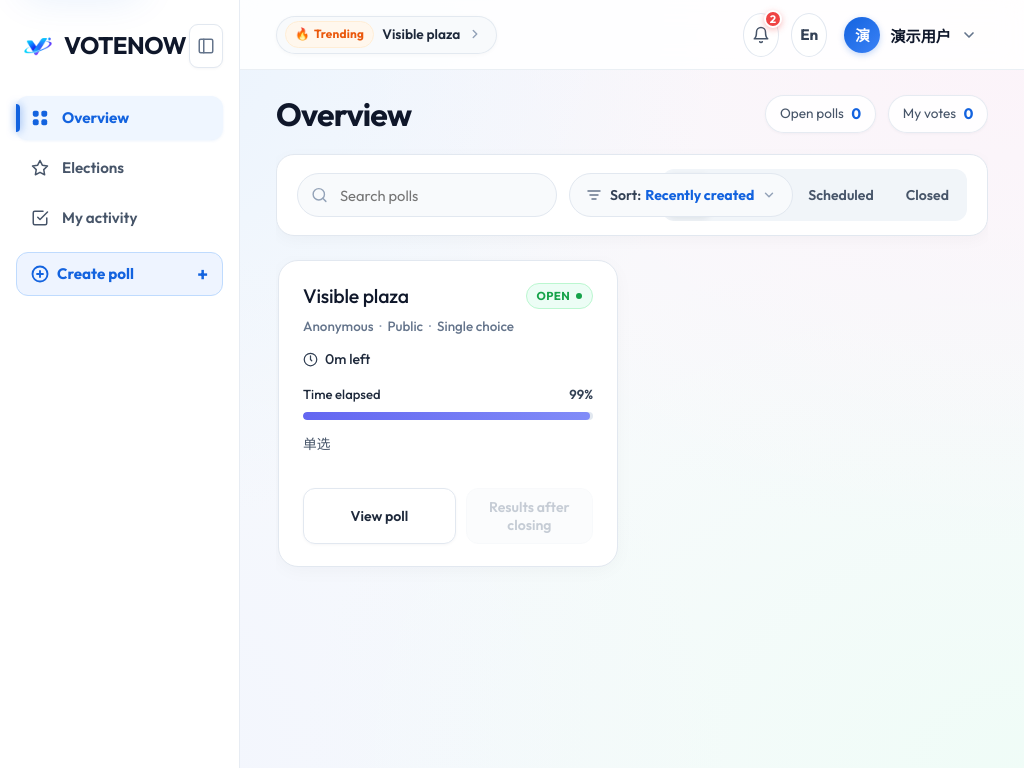
Test: DashboardPage › 搜索发给公开列表接口，没有结果时显示空状态
The image size is (1024, 768).
Type "Missing" into the field with placeholder "Search polls" at (427, 195), box x1=297 y1=173 x2=557 y2=217
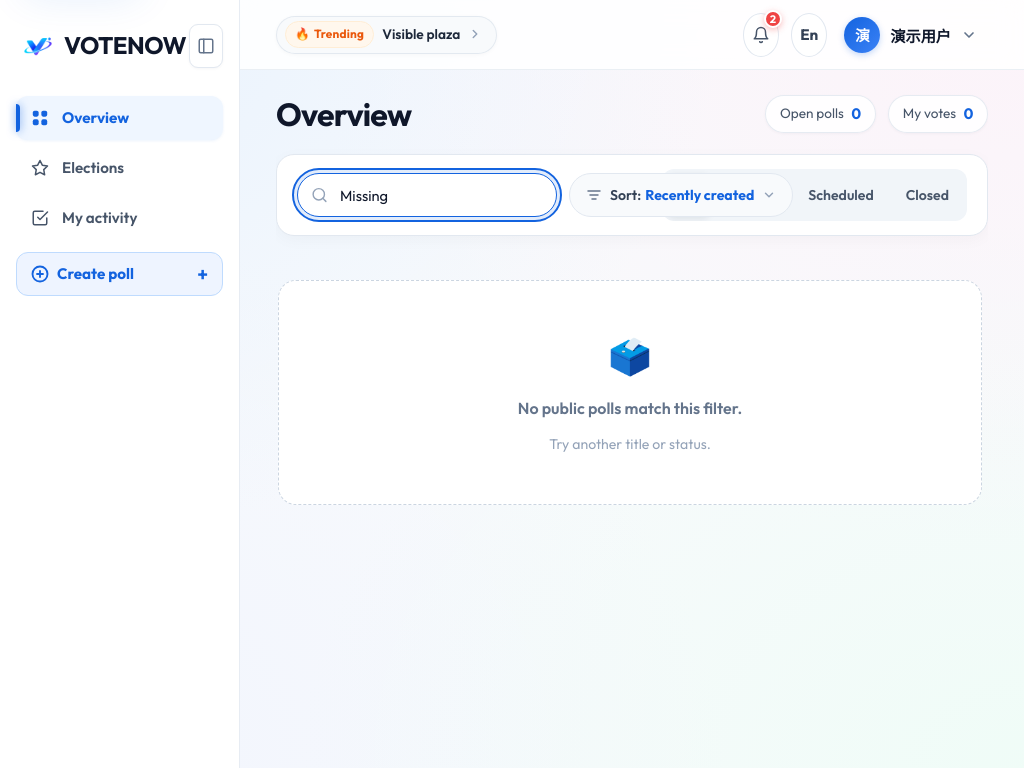
Now the text "No public polls match this filter." is shown, box x1=518 y1=396 x2=742 y2=421
